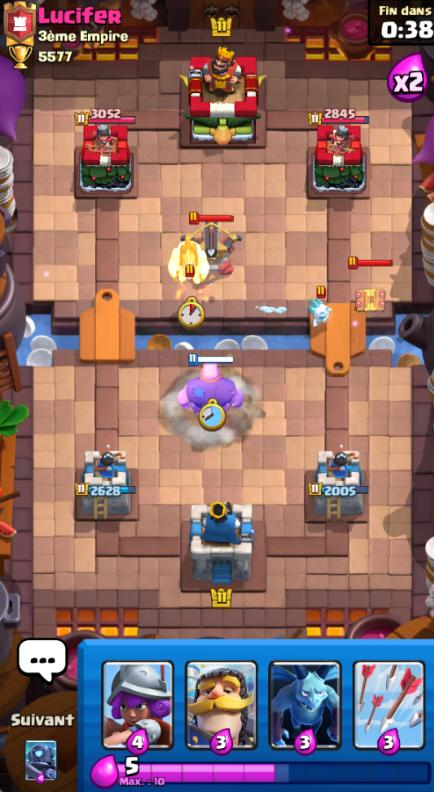geant: (174, 365, 249, 428)
